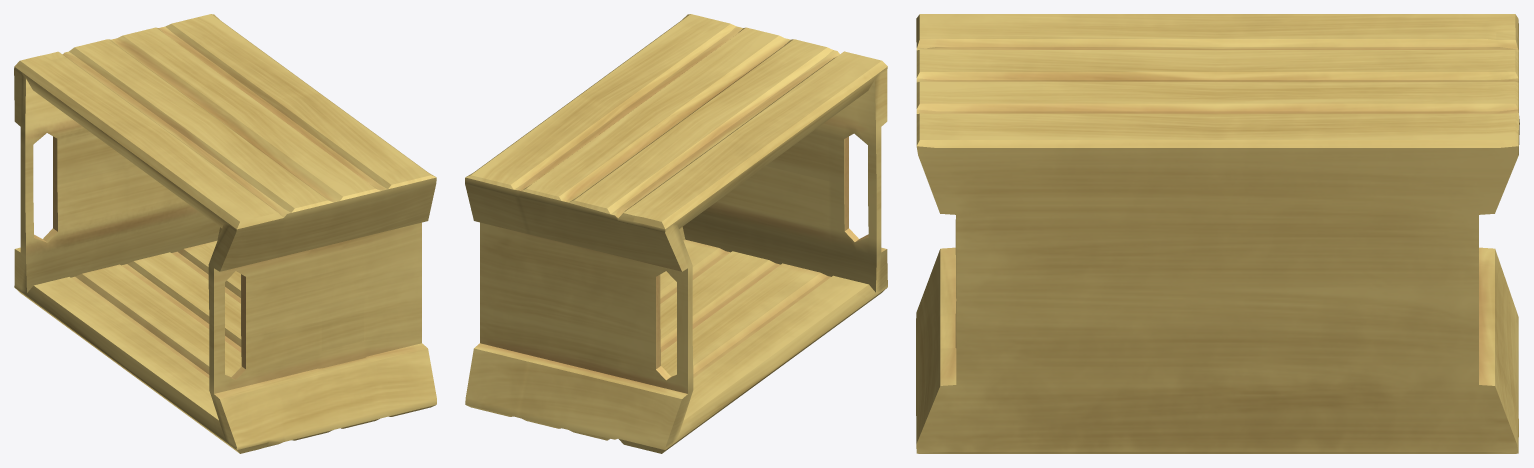
The model's file is WoodBox.fbx.
3 views of the same model, side by side, from view 1: azimuth 30°, elevation 25°; view 2: azimuth 150°, elevation 25°; view 3: azimuth 270°, elevation 25° (orthographic). The views are drawn at different scales.
Parts seen in each view (by area): view 1: Caja1; view 2: Caja1; view 3: Caja1.
Part boxes in pixels (left/top/right/bottom): Caja1: left=14, top=14, right=436, bottom=453; Caja1: left=465, top=14, right=887, bottom=453; Caja1: left=916, top=14, right=1519, bottom=453.
Size of the model in its own units: 1.56 by 1.67 by 2.9.
Materials: 1 (1 with a texture image).
